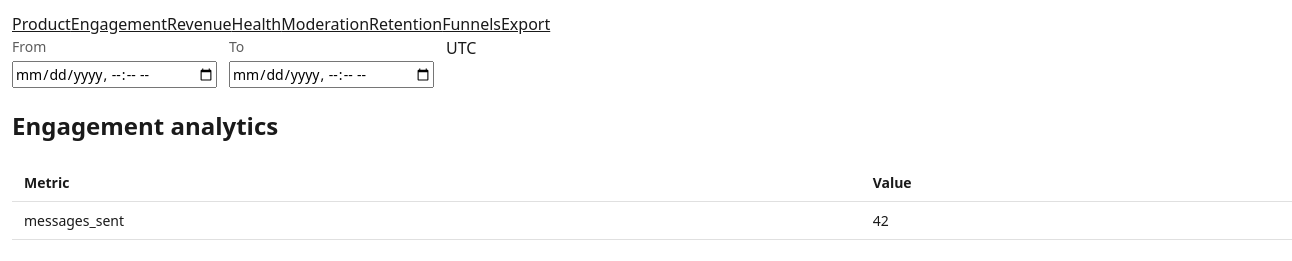
it: DashboardMetricsPage › does not fetch an inverse UTC range and resumes after the range is corrected
Expected: the text "messages_sent" is shown, [12,201,861,239]
Type "2026-01-31T00:00" into the field labelled "From" at (114, 74), box [12,61,217,88]
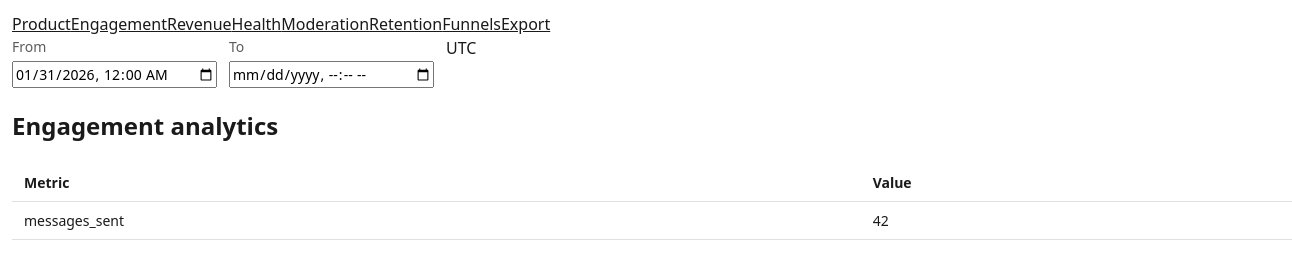
Type "2026-01-01T00:00" into the field labelled "To" at (332, 74), box [229,61,434,88]
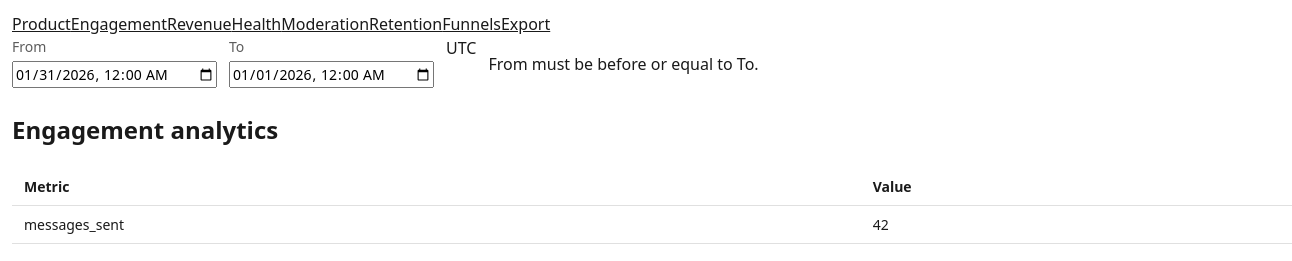
Expected: the message reads "From must be before or equal to To.", [488,53,759,75]
Replace the text in the field labelled "To" with "2026-01-31T00:00" at (332, 74), box [229,61,434,88]
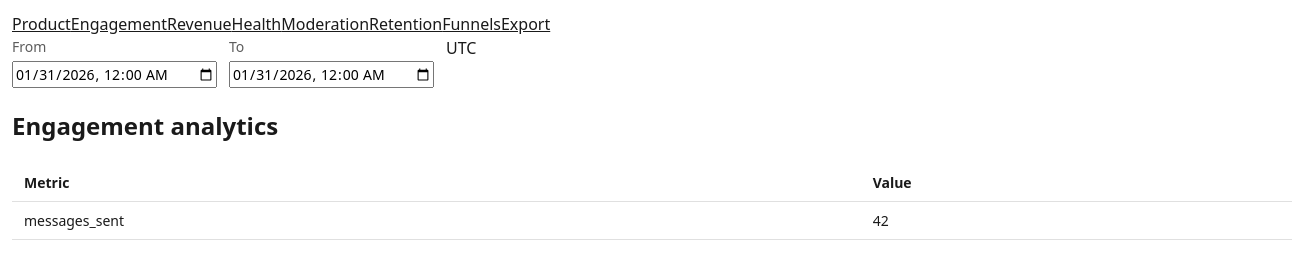
Expected: the message "From must be before or equal to To." is gone
